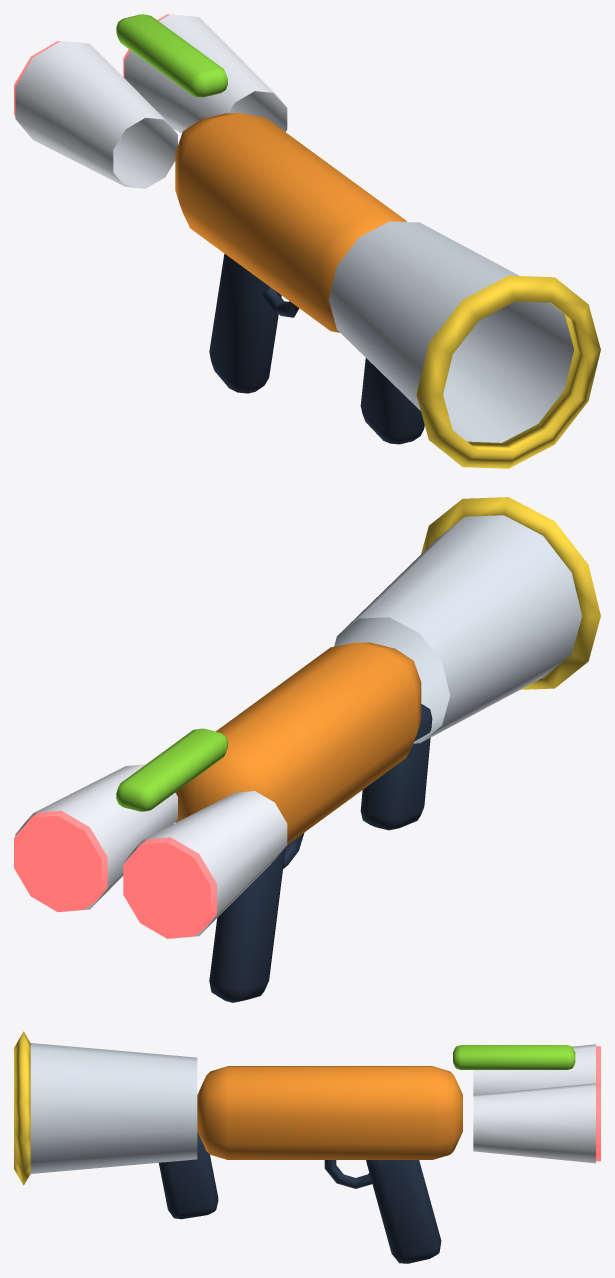
Rendered from BoostBlaster.fbx.
3 renders of one model, top to bottom at view 1: azimuth 30°, elevation 25°; view 2: azimuth 150°, elevation 25°; view 3: azimuth 270°, elevation 25°, orthographic. The views are drawn at different scales.
Parts seen in each view (by area): view 1: BoostBlaster; view 2: BoostBlaster; view 3: BoostBlaster.
Part boxes in pixels (x1,y1,x2,y2): BoostBlaster: (14,14,600,468); BoostBlaster: (14,497,600,1002); BoostBlaster: (14,1031,600,1263).
Bounding box in the file's own units: 0.1661 × 0.2417 × 0.5745.
